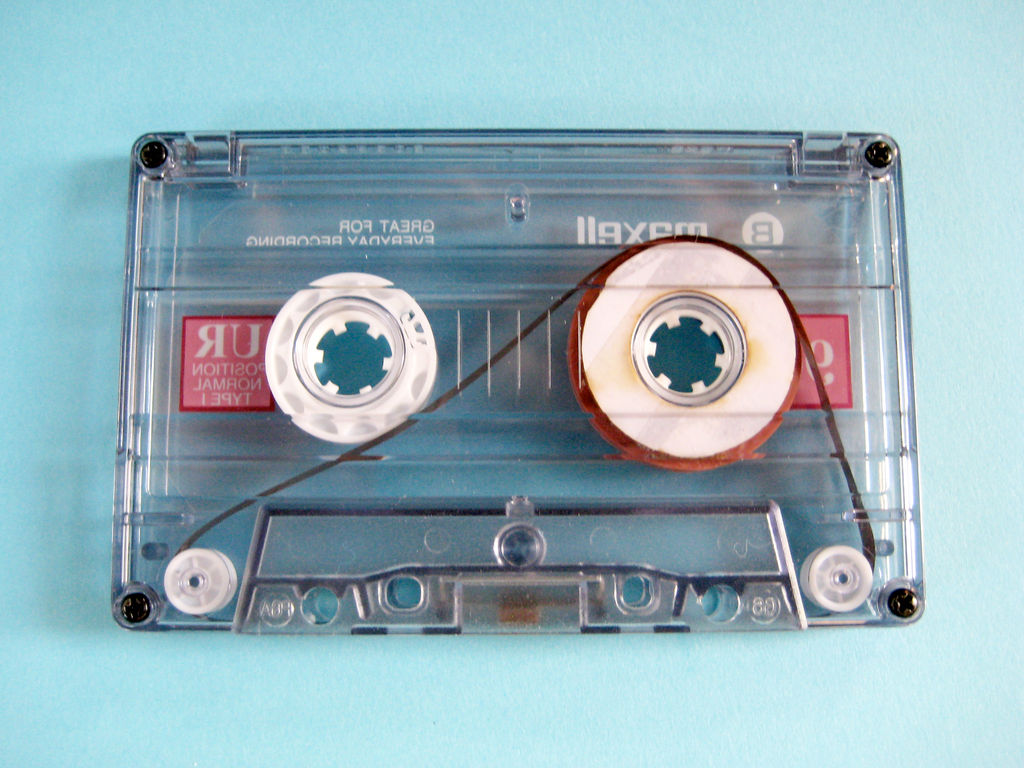Nonrec_Other: (89, 85, 951, 648)
